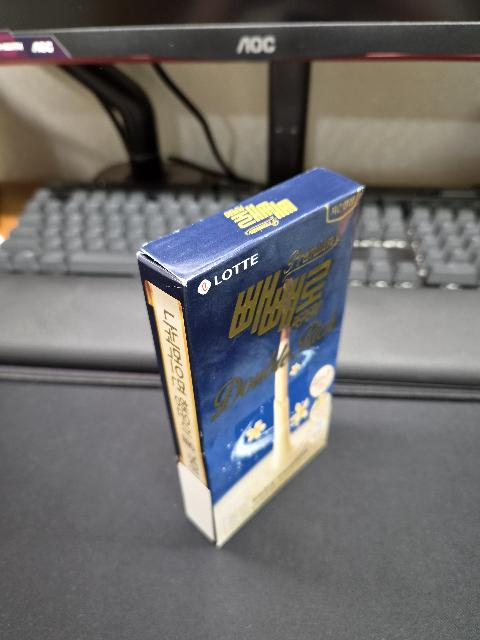pepero: (136, 166, 365, 548)
